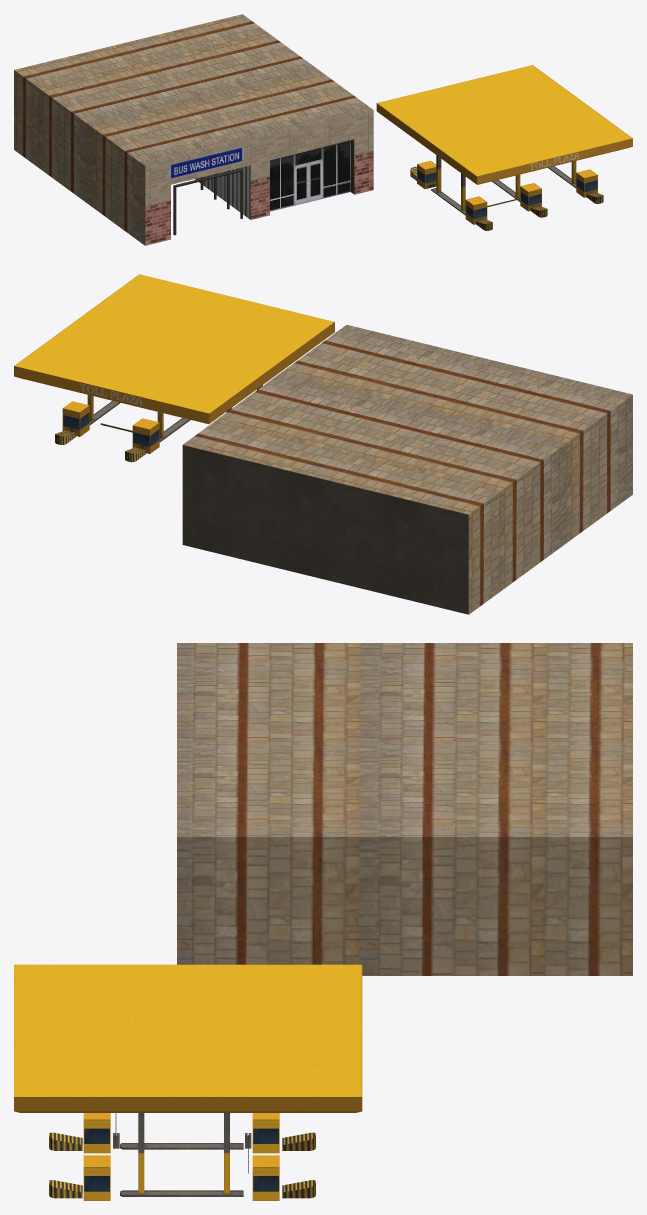
The model's file is TOLL PLAZA 1.FBX.
The picture shows the model from 3 angles, top to bottom: view 1: azimuth 30°, elevation 25°; view 2: azimuth 150°, elevation 25°; view 3: azimuth 270°, elevation 25°; orthographic projection. The views are drawn at different scales.
Visible parts, largest first — view 1: bus wash center, tool plaza; view 2: bus wash center, tool plaza; view 3: bus wash center, tool plaza.
Boxes of the visible parts, x1,y1,x2,y2 form: bus wash center: (14,14,373,245); tool plaza: (376,65,632,230); bus wash center: (182,325,632,614); tool plaza: (14,274,334,462); bus wash center: (177,643,632,975); tool plaza: (14,964,362,1200).
Bounding box in the file's own units: 20566 × 5030 × 14374.
